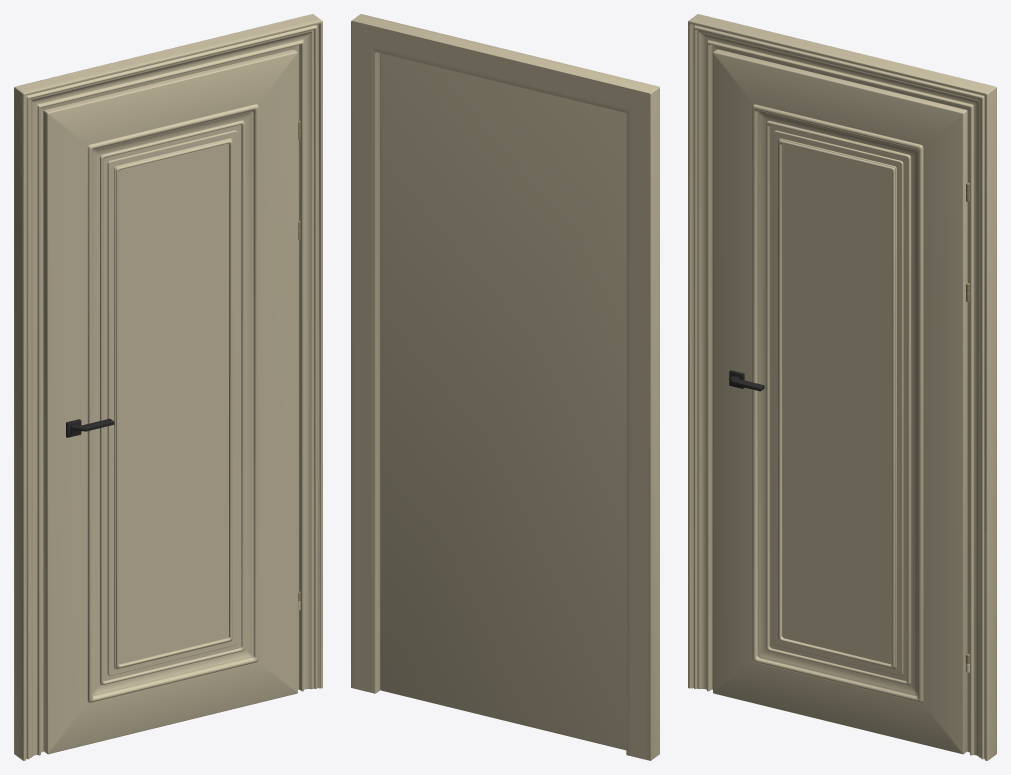
3 views of the same model, side by side, from view 1: azimuth 30°, elevation 25°; view 2: azimuth 150°, elevation 25°; view 3: azimuth 330°, elevation 25° (orthographic).
Visible parts, largest first — view 1: Plane.001, Plane.002; view 2: Plane.001, Plane.002; view 3: Plane.001, Plane.002.
Boxes of the visible parts, box(x1,y1,x2,y2) form: Plane.001: box(43, 49, 297, 754); Plane.002: box(14, 14, 322, 760); Plane.001: box(380, 53, 626, 750); Plane.002: box(351, 14, 659, 760); Plane.001: box(713, 49, 967, 754); Plane.002: box(688, 14, 996, 760).
Size of the model in its own units: 1.07 by 2.29 by 0.115.
